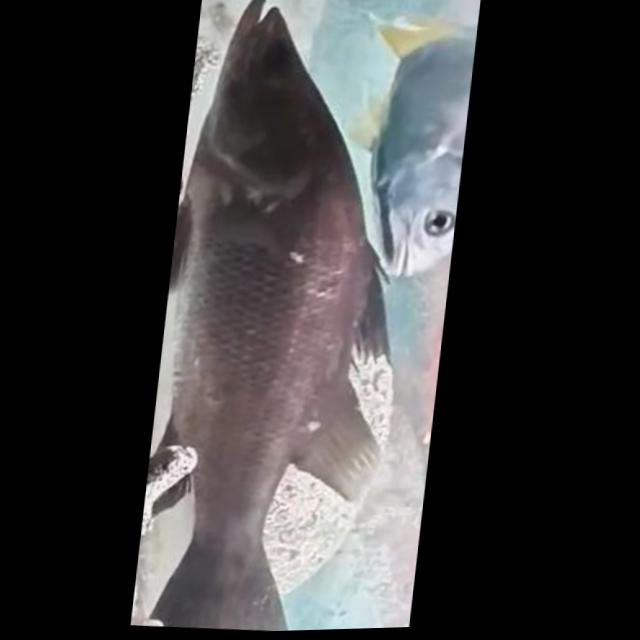Seabass: (130, 0, 438, 635)
